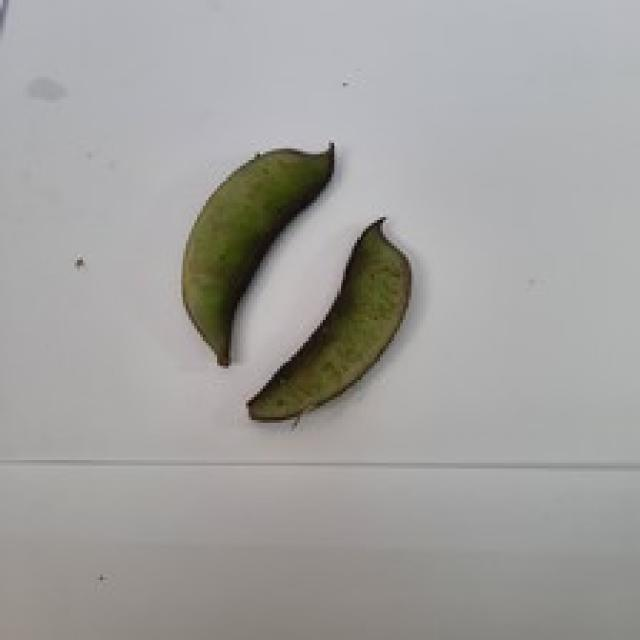Bean: (177, 137, 334, 366), (243, 214, 411, 423)
